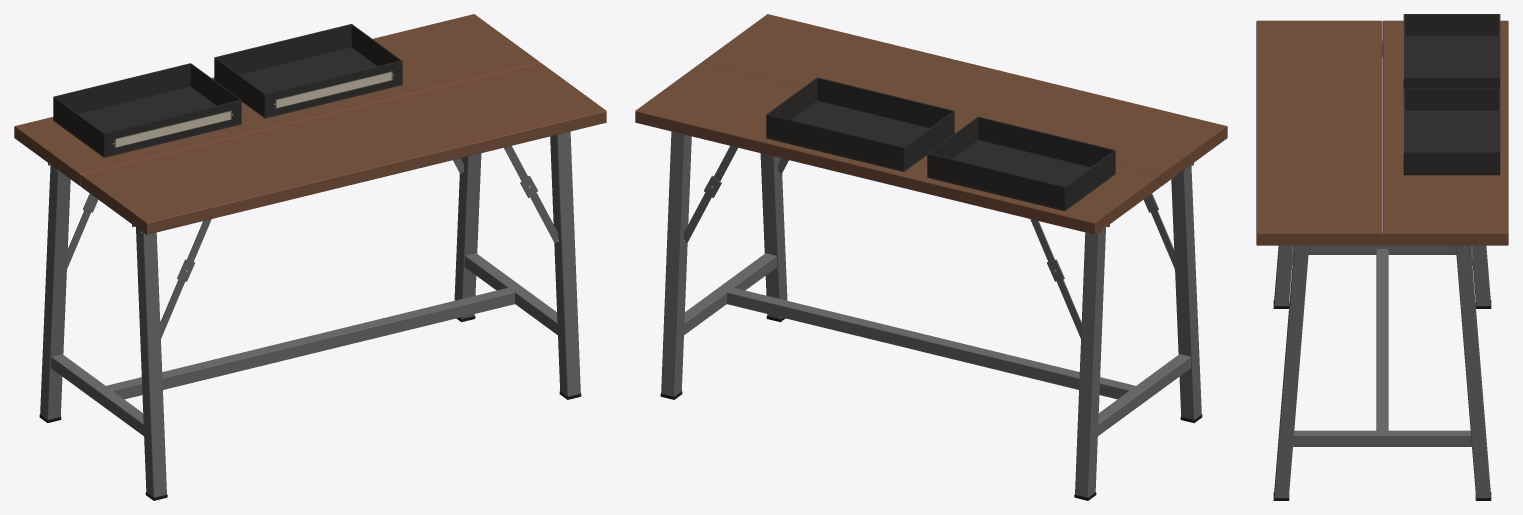
File: sorting-table-5ab15673e8b0.glb
The picture shows the model from 3 angles, left to right: view 1: azimuth 30°, elevation 25°; view 2: azimuth 150°, elevation 25°; view 3: azimuth 270°, elevation 25°; orthographic projection. The views are drawn at different scales.
Visible parts, largest first — view 1: wood-coffee, metal, plastic-dark, paper; view 2: wood-coffee, metal, plastic-dark; view 3: wood-coffee, metal, plastic-dark.
Part boxes in pixels (box(x1,y1,x2,y2)): wood-coffee: box(14, 14, 606, 234); metal: box(40, 71, 580, 497); plastic-dark: box(53, 24, 402, 157); paper: box(116, 72, 391, 147); wood-coffee: box(635, 14, 1227, 234); metal: box(661, 131, 1201, 497); plastic-dark: box(766, 77, 1115, 211); wood-coffee: box(1256, 20, 1508, 245); metal: box(1274, 26, 1490, 497); plastic-dark: box(1403, 14, 1500, 175).
Size of the model in its own units: 1.2 by 0.78 by 0.6.
